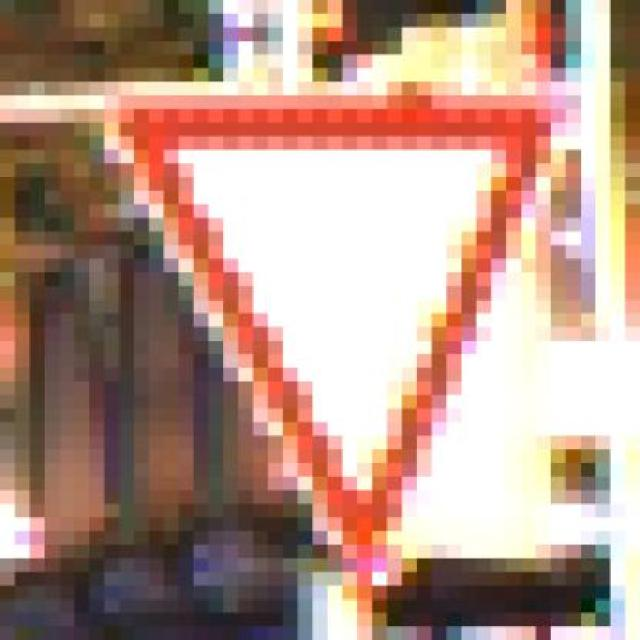Give Way: (74, 27, 611, 627)
